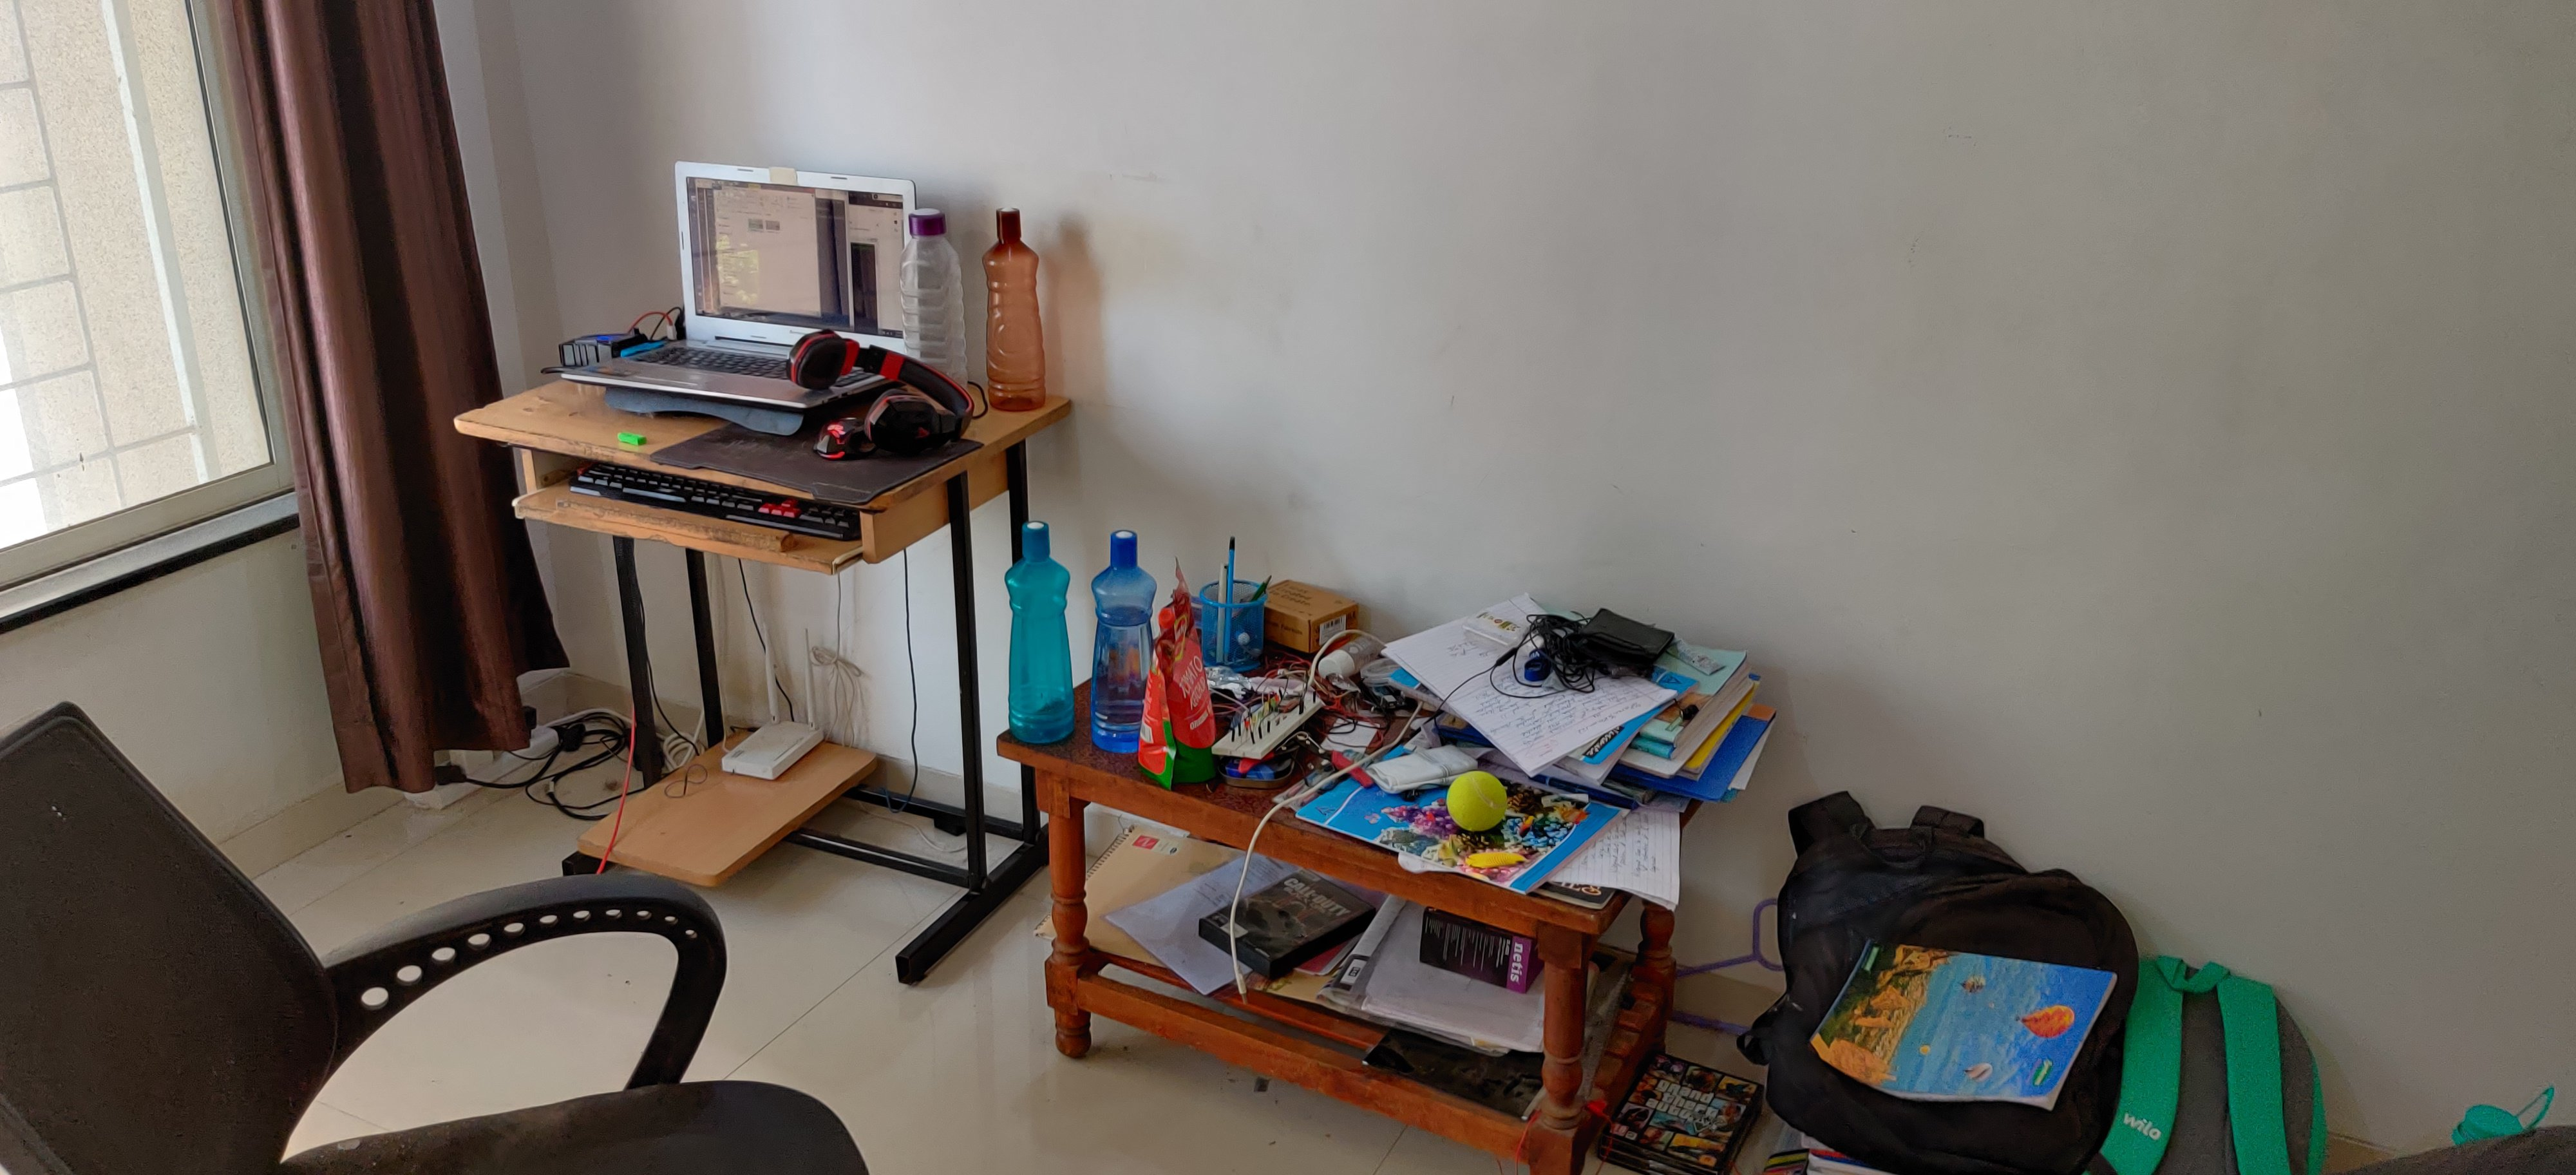Tennis-Ball: (1446, 771, 1508, 830)
